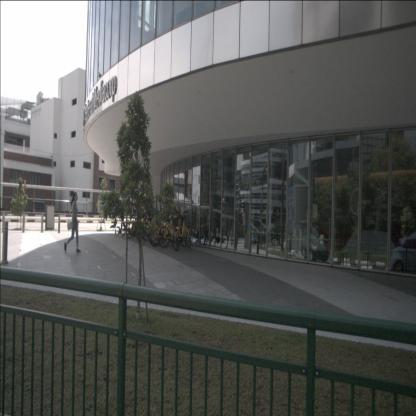human-pedestrian-adult: (64, 192, 81, 252)
vehicle-bicycle: (203, 210, 229, 250), (189, 206, 208, 245)
vehicle-car: (390, 238, 416, 274), (302, 234, 330, 262), (251, 234, 258, 244)
